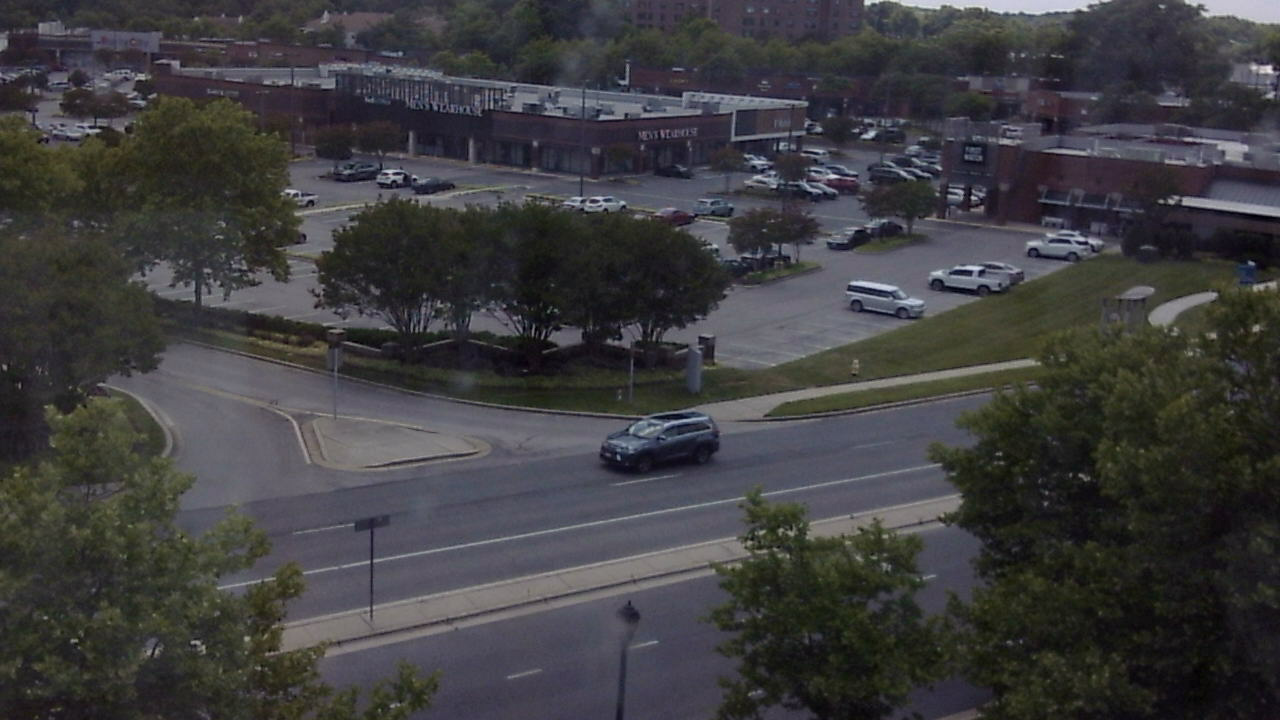Car: (587, 403, 739, 481)
